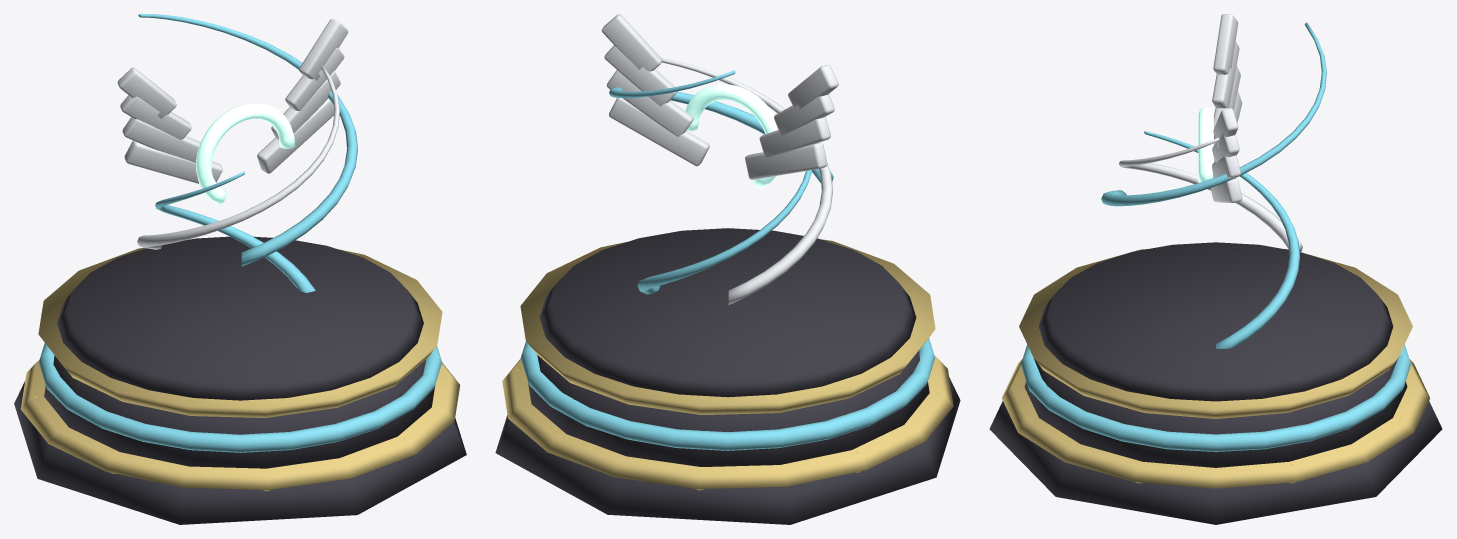
The picture shows the model from 3 angles, left to right: view 1: azimuth 30°, elevation 25°; view 2: azimuth 150°, elevation 25°; view 3: azimuth 270°, elevation 25°; orthographic projection. The views are drawn at different scales.
Parts seen in each view (by area): view 1: TP-002_Ariel; view 2: TP-002_Ariel; view 3: TP-002_Ariel.
Part boxes in pixels (<box>): TP-002_Ariel: <box>14,14,466,524</box>; TP-002_Ariel: <box>495,14,960,524</box>; TP-002_Ariel: <box>989,14,1442,524</box>.
Bounding box in the file's own units: 0.92 × 0.8537 × 0.92.
